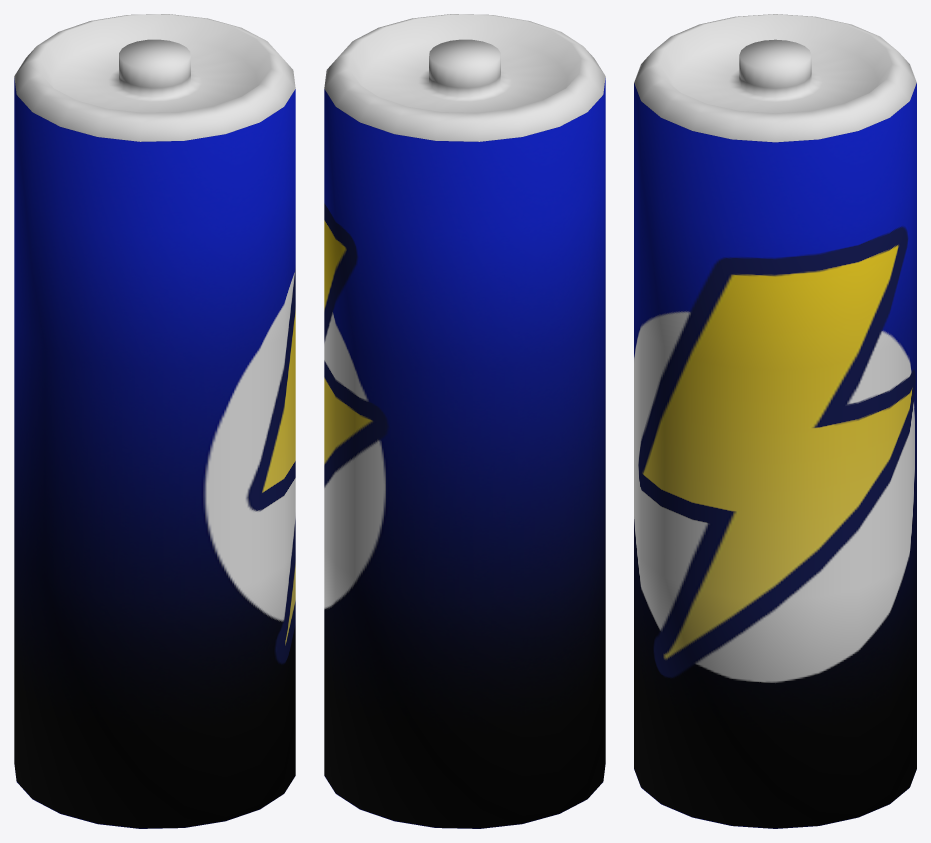
Rendered from battery.fbx.
The picture shows the model from 3 angles, left to right: view 1: azimuth 30°, elevation 25°; view 2: azimuth 150°, elevation 25°; view 3: azimuth 270°, elevation 25°; orthographic projection.
Visible parts, largest first — view 1: battery; view 2: battery; view 3: battery.
Boxes of the visible parts, <box> form: battery: <box>14,14,295,828</box>; battery: <box>324,14,605,828</box>; battery: <box>634,14,916,828</box>.
Size of the model in its own units: 7.22 by 20.48 by 7.22.
